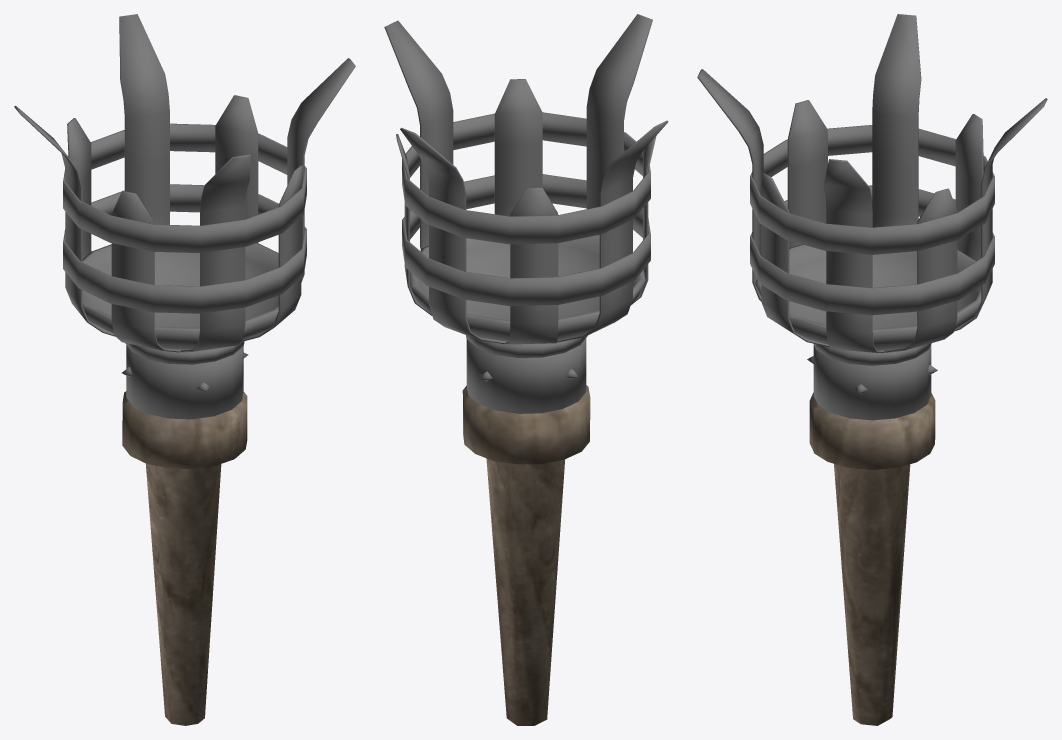
Rendered from Torch.obj.
3 views of the same model, side by side, from view 1: azimuth 30°, elevation 25°; view 2: azimuth 150°, elevation 25°; view 3: azimuth 270°, elevation 25° (orthographic). The views are drawn at different scales.
Visible parts, largest first — view 1: torch; view 2: torch; view 3: torch.
Boxes of the visible parts, bbox=[...] form: torch: bbox=[14, 14, 355, 725]; torch: bbox=[384, 14, 668, 725]; torch: bbox=[697, 14, 1047, 725].
Size of the model in its own units: 0.7245 by 1.44 by 0.7245.
1 material, 1 textured.
